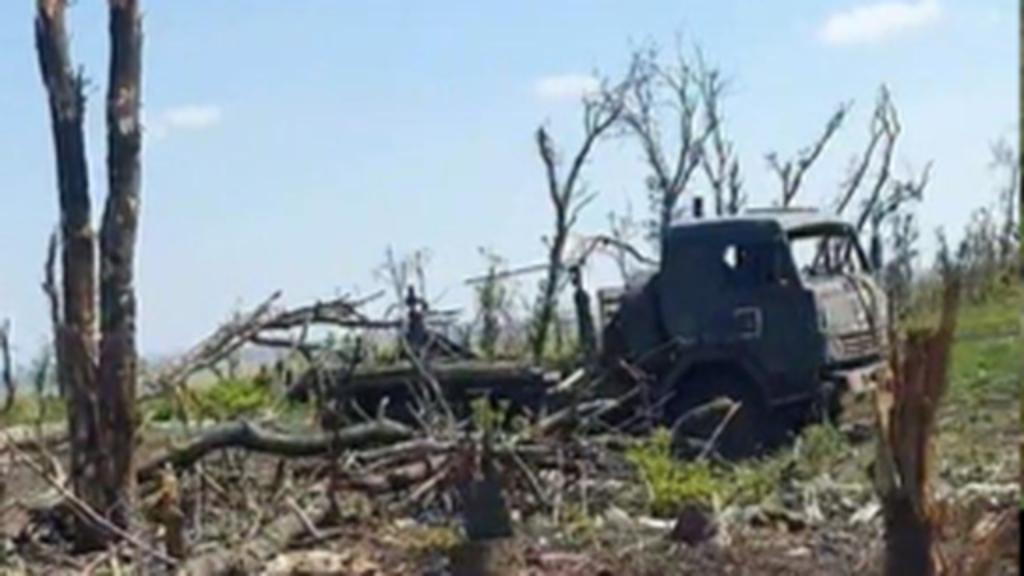TRUCK: (300, 200, 892, 456)
